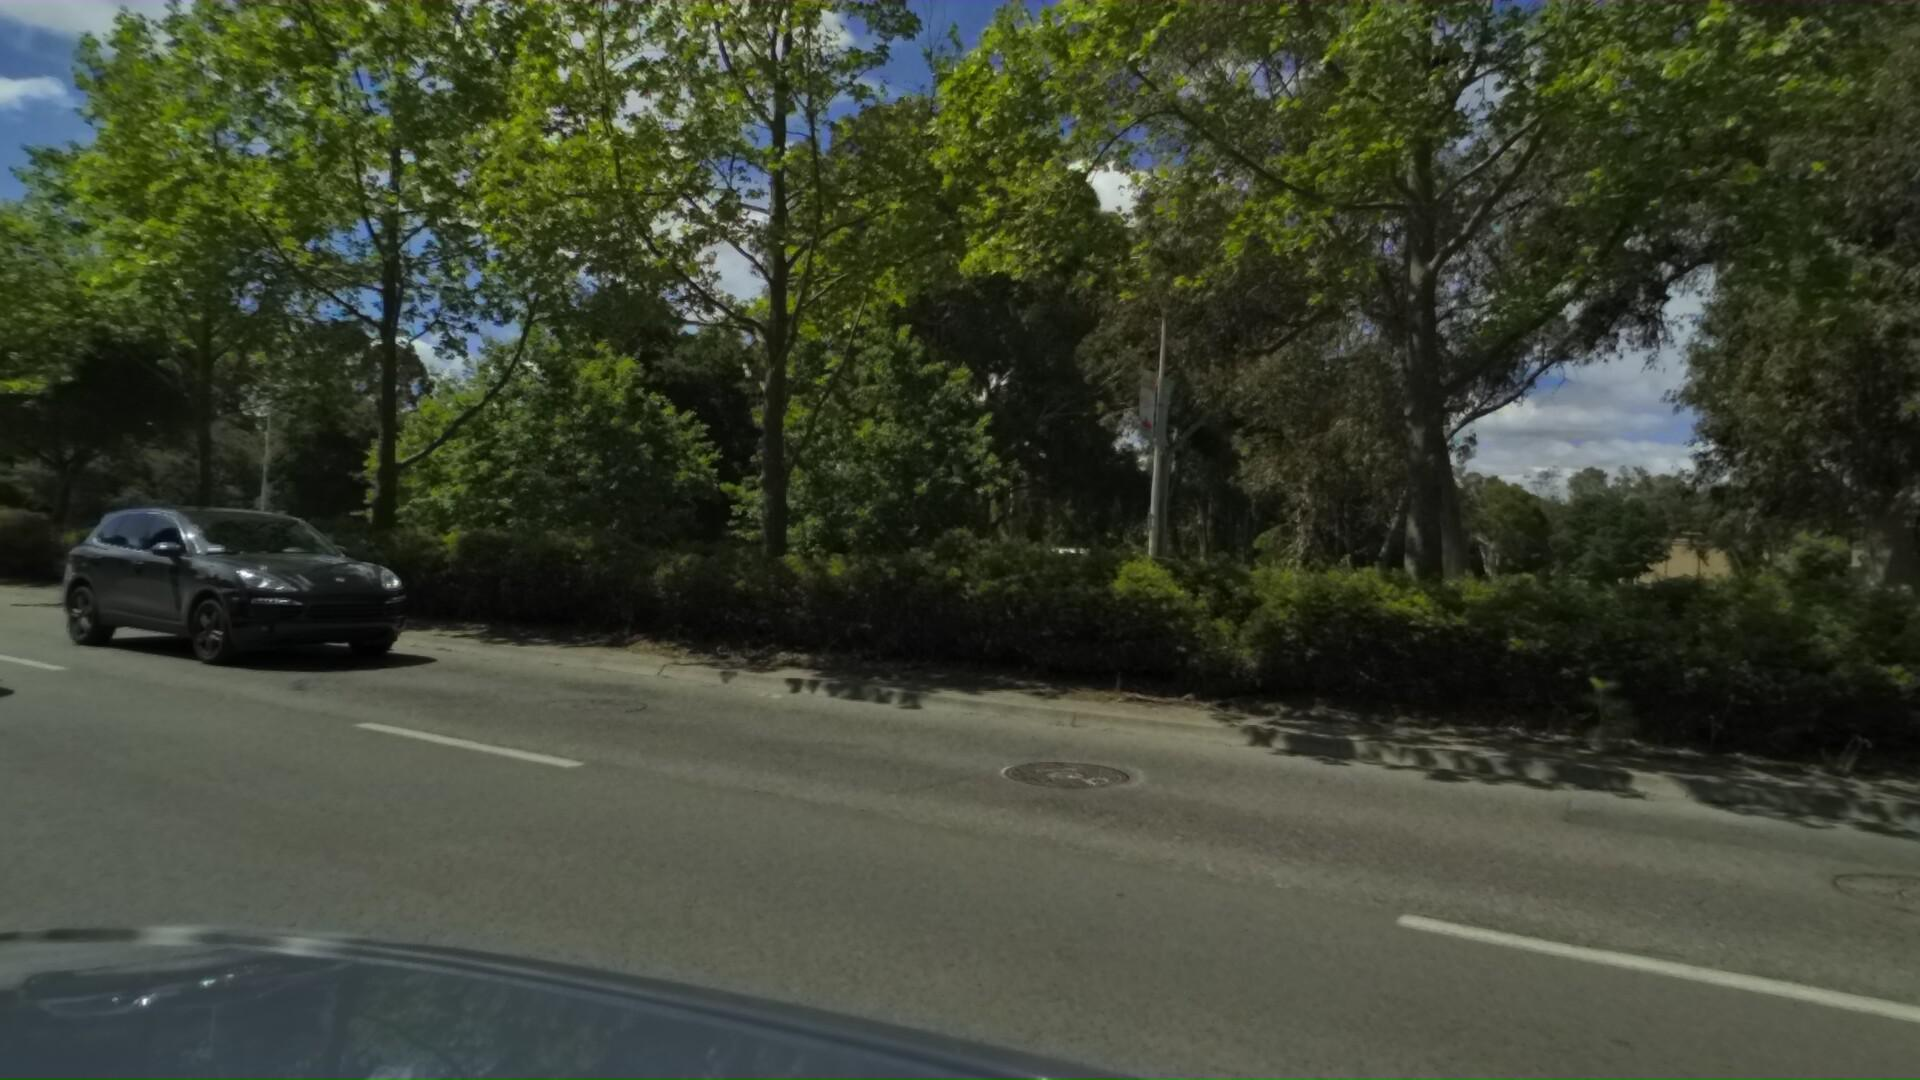car: (36, 495, 433, 676), (0, 456, 9, 723)
